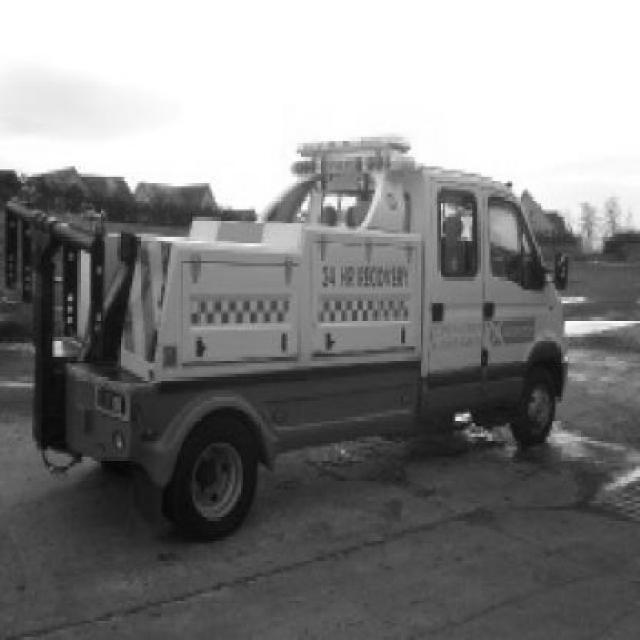Tow Truck: (8, 136, 569, 544)
